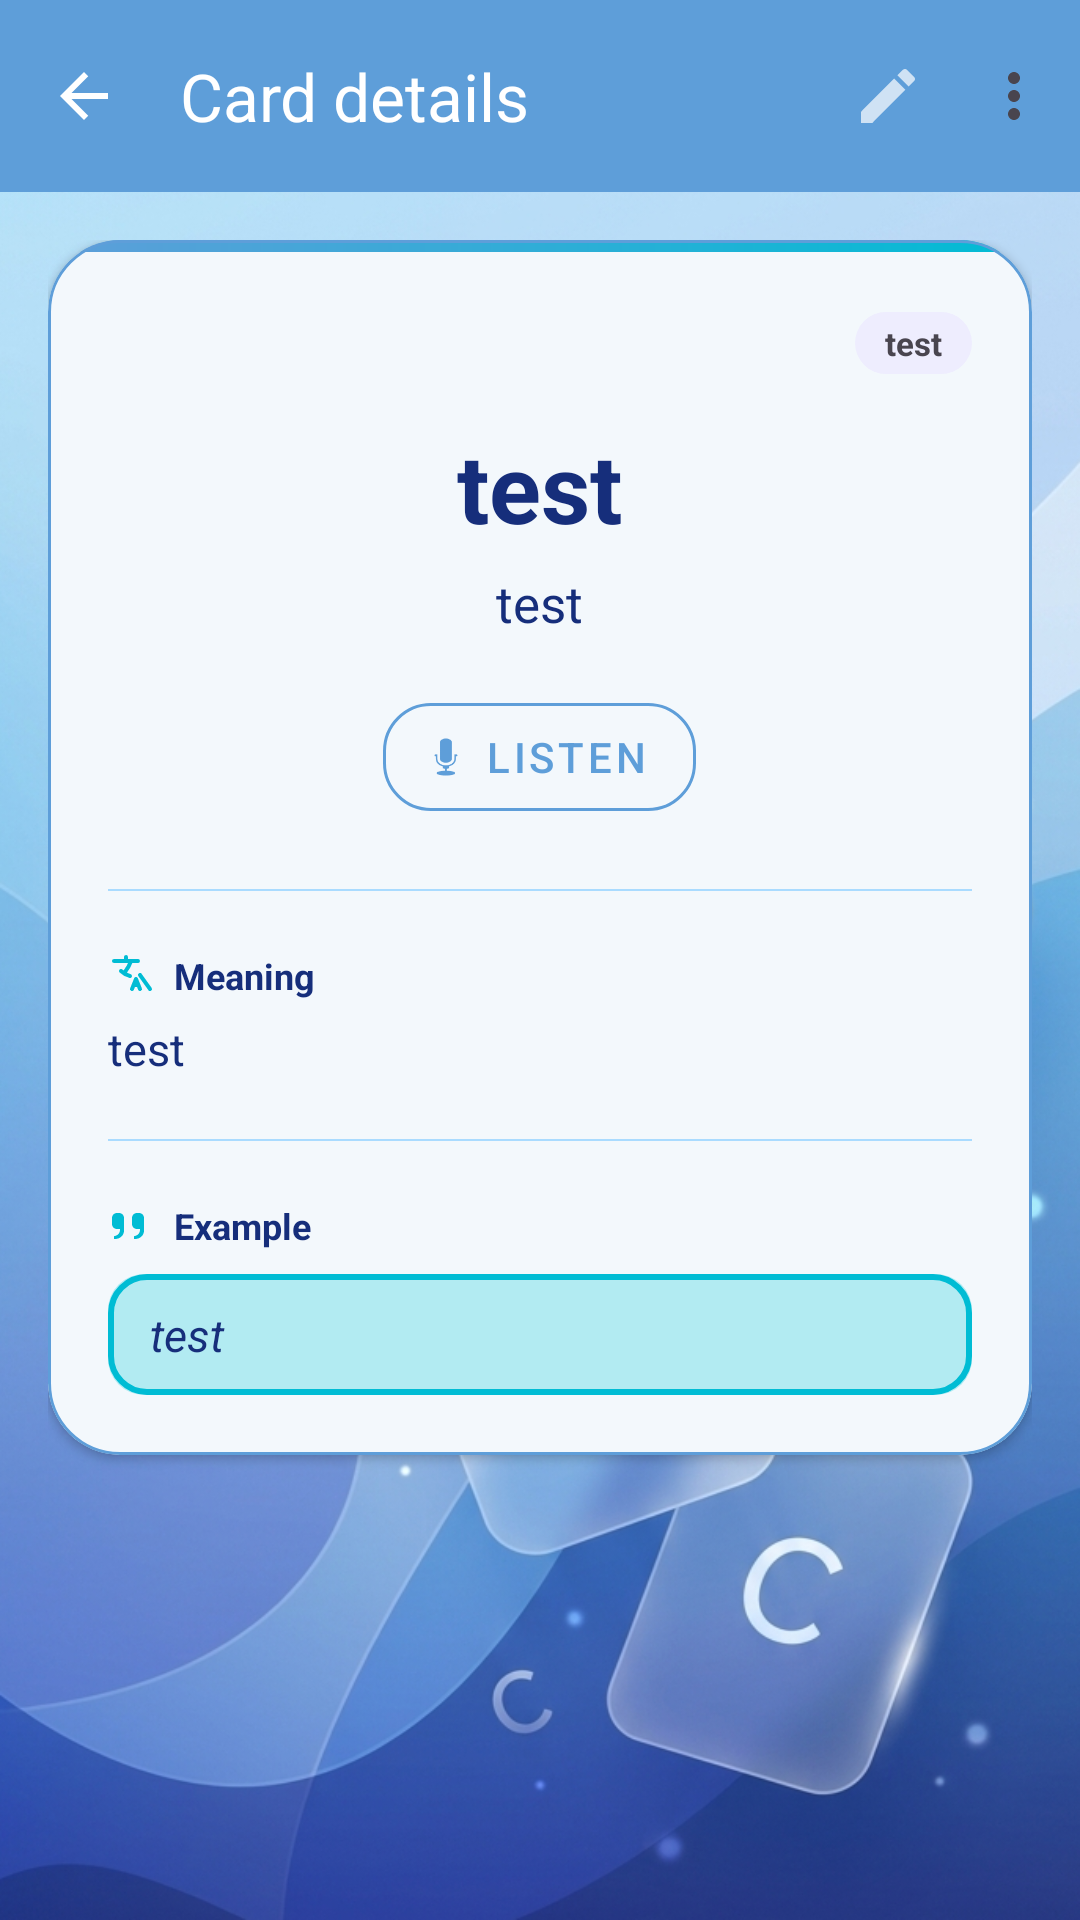

Icon click points for this 1080w x 1920h phone screenshot, format point (x, y):
quote: point (128, 1226)
translate: point (132, 973)
